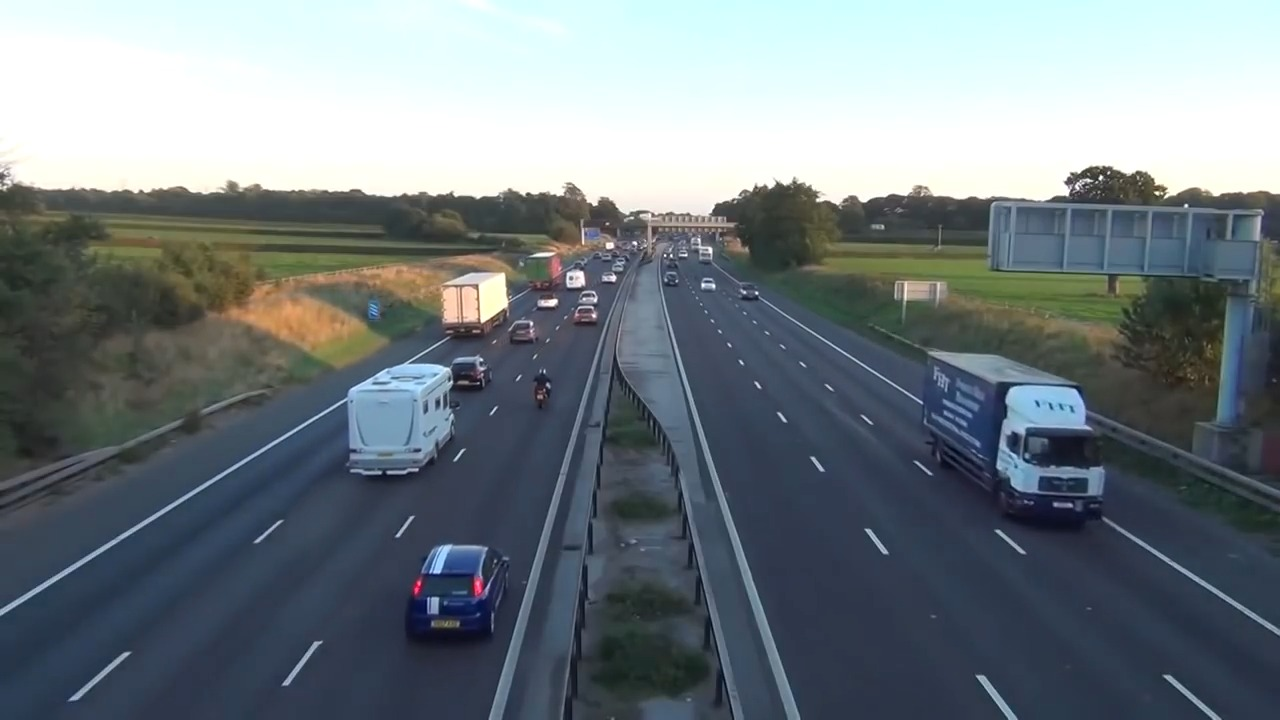truck: (919, 339, 1110, 523), (439, 267, 513, 337)
